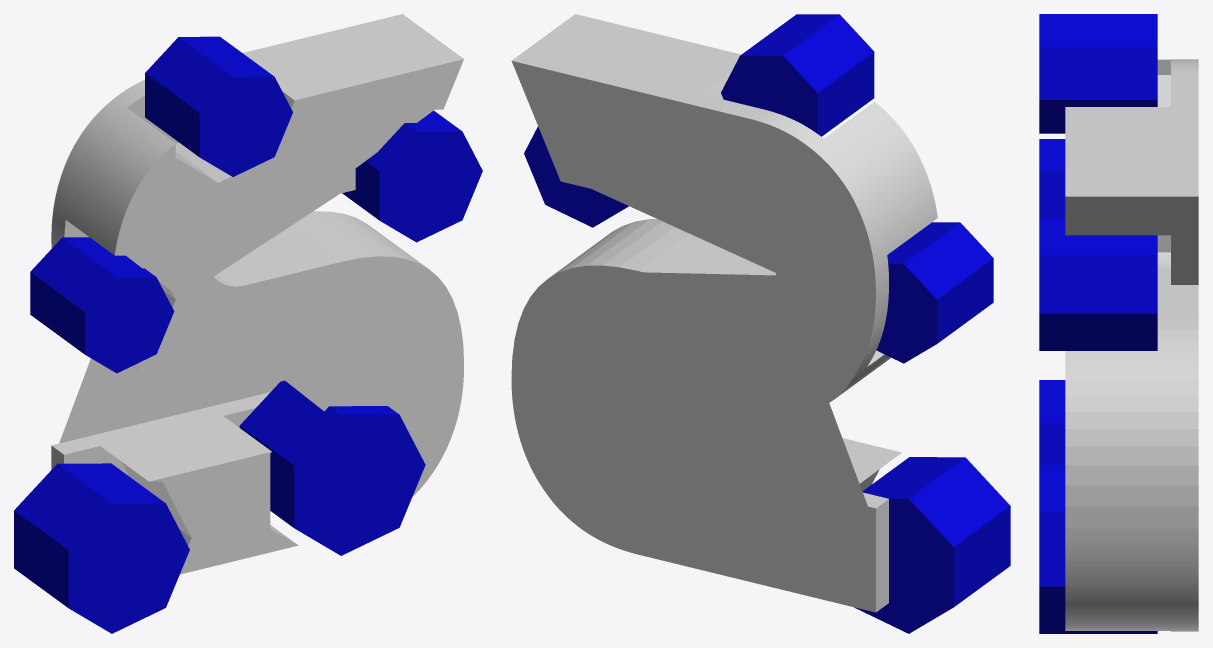
The model's file is Ch_Lite_S_01.fbx.
3 renders of one model, left to right at view 1: azimuth 30°, elevation 25°; view 2: azimuth 150°, elevation 25°; view 3: azimuth 270°, elevation 25°, orthographic. The views are drawn at different scales.
Parts seen in each view (by area): view 1: sphere1; view 2: sphere1; view 3: sphere1.
Boxes of the visible parts, x1,y1,x2,y2 form: sphere1: [14, 14, 482, 633]; sphere1: [511, 14, 1010, 633]; sphere1: [1039, 14, 1198, 633].
Size of the model in its own units: 0.7774 by 0.9459 by 0.2387.
